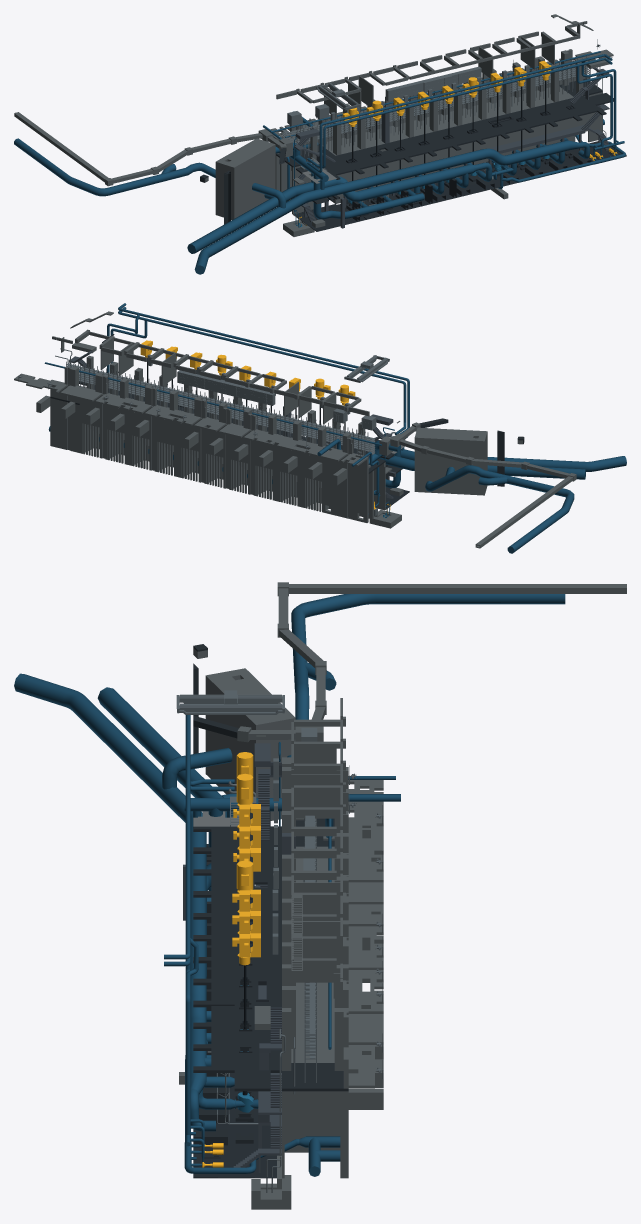
Rendered from TWFWPS_SNSB.glb.
3 views of the same model, one above another, from view 1: azimuth 30°, elevation 25°; view 2: azimuth 150°, elevation 25°; view 3: azimuth 270°, elevation 25° (orthographic). The views are drawn at different scales.
Parts seen in each view (by area): view 1: Rectangle001, Shape011, Line011, Rectangle002, Group016, Group014, Line056, Shape003, Line020, Line058, Line035, Group011 (+2 smaller); view 2: Rectangle001, Line056, Group016, Shape003, Line058, Line011, Group011, Line020, Rectangle002, Group014, Shape011, Circle007 (+1 smaller); view 3: Rectangle001, Shape011, Line011, Line058, Group014, Rectangle002, Group016, Group011, Shape003, Line020, Line035, Line056 (+2 smaller).
Boxes of the visible parts, bbox=[...] form: Rectangle001: bbox=[14, 21, 613, 236]; Shape011: bbox=[276, 78, 613, 179]; Line011: bbox=[194, 140, 589, 274]; Rectangle002: bbox=[200, 69, 626, 231]; Group016: bbox=[287, 65, 617, 207]; Group014: bbox=[294, 61, 610, 228]; Line056: bbox=[282, 56, 590, 156]; Shape003: bbox=[307, 54, 624, 172]; Line020: bbox=[187, 162, 492, 253]; Line058: bbox=[14, 138, 285, 208]; Line035: bbox=[289, 111, 424, 219]; Group011: bbox=[366, 61, 551, 120]; Rectangle001: bbox=[14, 329, 576, 548]; Line056: bbox=[66, 359, 375, 456]; Group016: bbox=[147, 354, 389, 509]; Shape003: bbox=[107, 303, 409, 435]; Line058: bbox=[425, 465, 574, 553]; Line011: bbox=[401, 449, 626, 471]; Group011: bbox=[140, 340, 330, 399]; Line020: bbox=[379, 456, 585, 479]; Rectangle002: bbox=[102, 334, 524, 505]; Group014: bbox=[69, 350, 395, 502]; Shape011: bbox=[50, 372, 394, 473]; Circle007: bbox=[44, 362, 381, 445]; Rectangle001: bbox=[179, 582, 626, 1209]; Shape011: bbox=[193, 811, 348, 1091]; Line011: bbox=[14, 673, 215, 1131]; Line058: bbox=[162, 594, 565, 797]; Group014: bbox=[183, 743, 295, 1172]; Rectangle002: bbox=[193, 644, 276, 1178]; Group016: bbox=[176, 690, 317, 1167]; Group011: bbox=[232, 773, 260, 965]; Shape003: bbox=[164, 715, 234, 1146]; Line020: bbox=[97, 687, 226, 976]; Line035: bbox=[184, 794, 400, 901]; Line056: bbox=[304, 818, 316, 1082].
Size of the model in its own units: 123 by 31.6 by 65.07.
